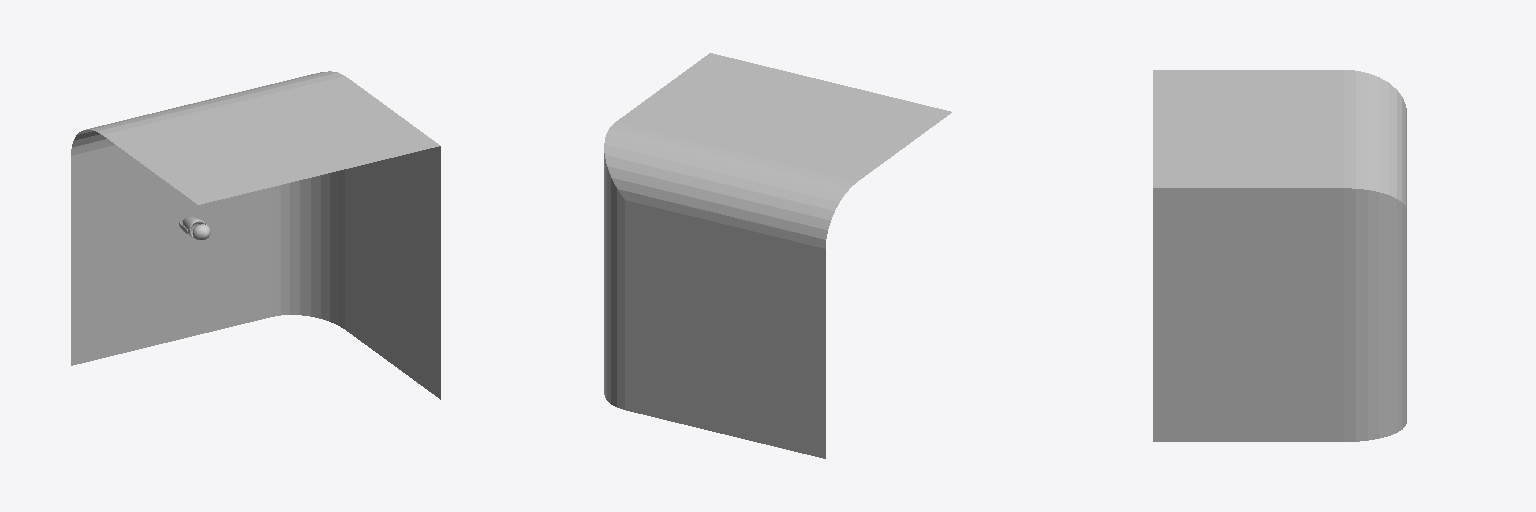
Rendered from bugdroid.obj.
The picture shows the model from 3 angles: view 1: azimuth 30°, elevation 25°; view 2: azimuth 150°, elevation 25°; view 3: azimuth 270°, elevation 25°; orthographic projection.
Size of the model in its own units: 29.69 by 29.69 by 26.96.